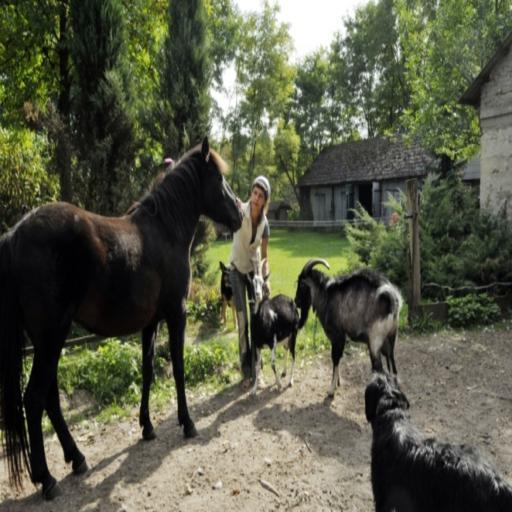horse: (0, 138, 247, 500)
